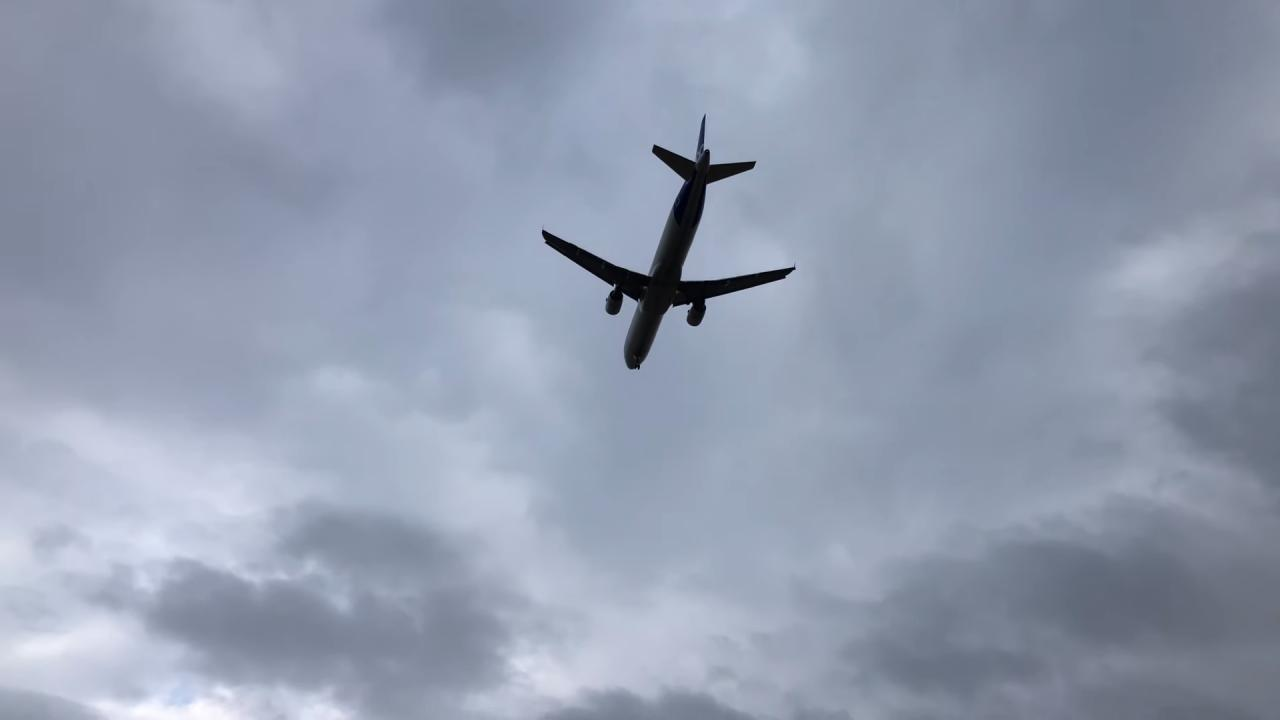Airplane: (525, 105, 808, 384)
